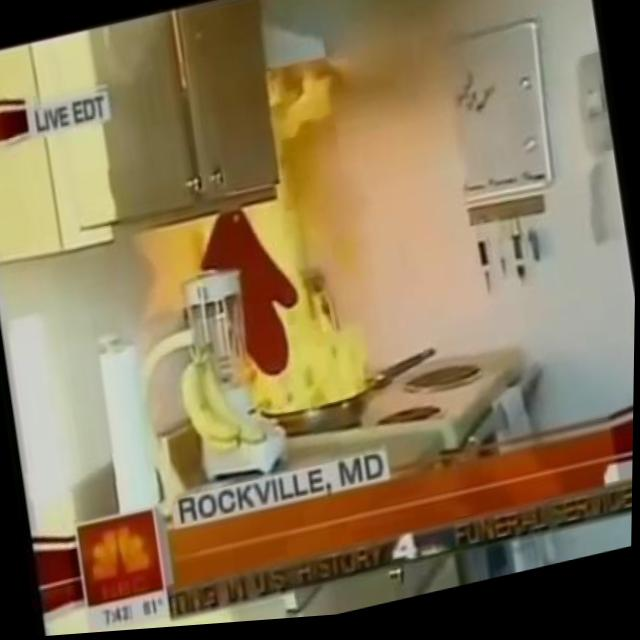fire: (198, 54, 399, 426)
